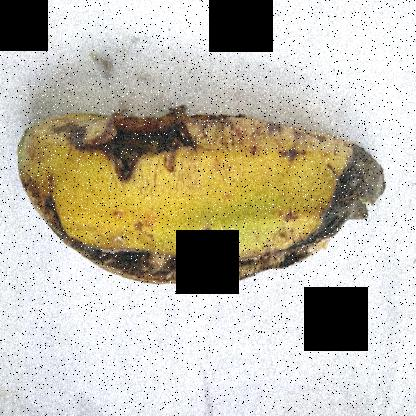rotten: (22, 72, 402, 303)
